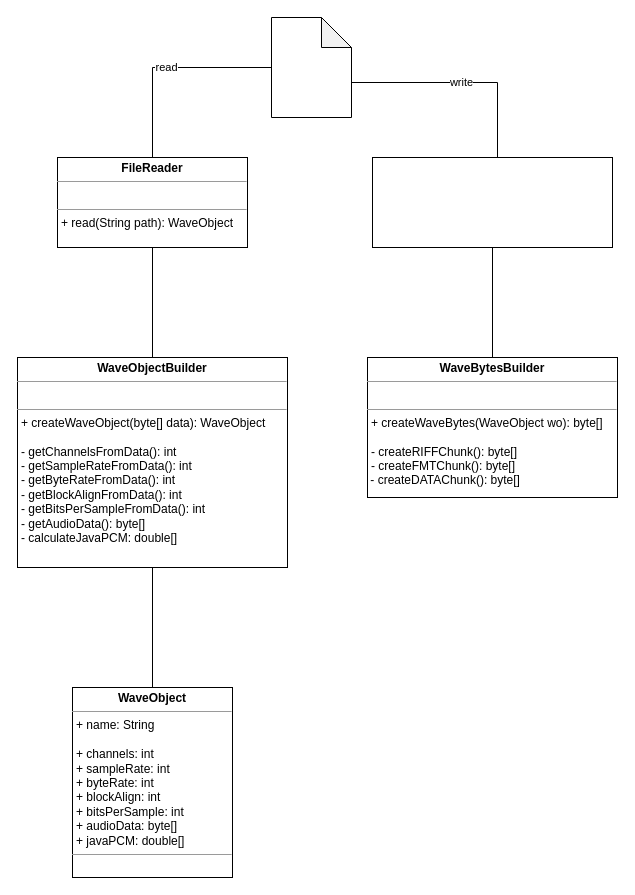
This 635x895 diagram has some shape labels left out. Each missing label, with the centre of its shape:
File: point 311,67
FileWriter + write(String path, WaveObject wo): void: point 492,202
